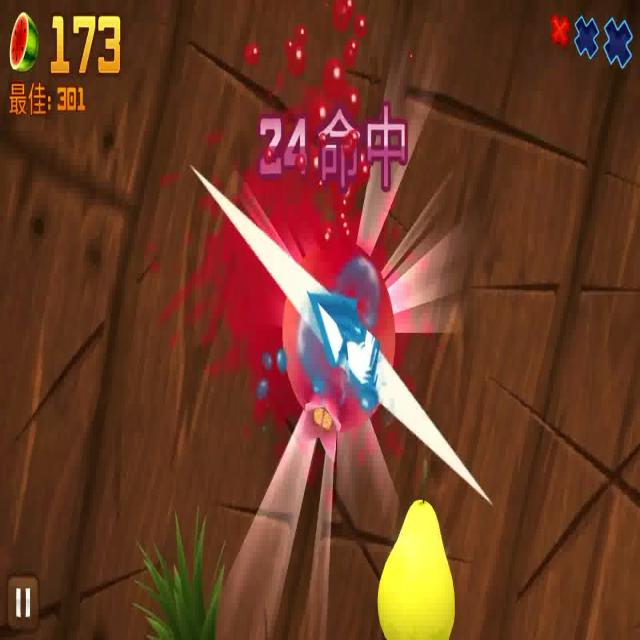fruit: (278, 230, 404, 427), (378, 490, 458, 640)
